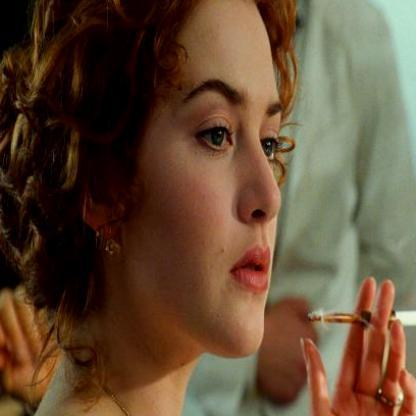person: (0, 0, 317, 408)
